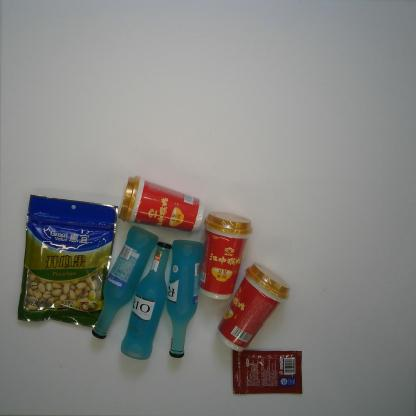Alcohol: (91, 225, 158, 340), (118, 240, 172, 362), (165, 238, 205, 360)
Dried Fruit: (16, 192, 120, 330)
Instant Drink: (214, 261, 293, 353), (115, 174, 207, 233), (197, 211, 254, 302)
Seasoner: (231, 347, 304, 396)
